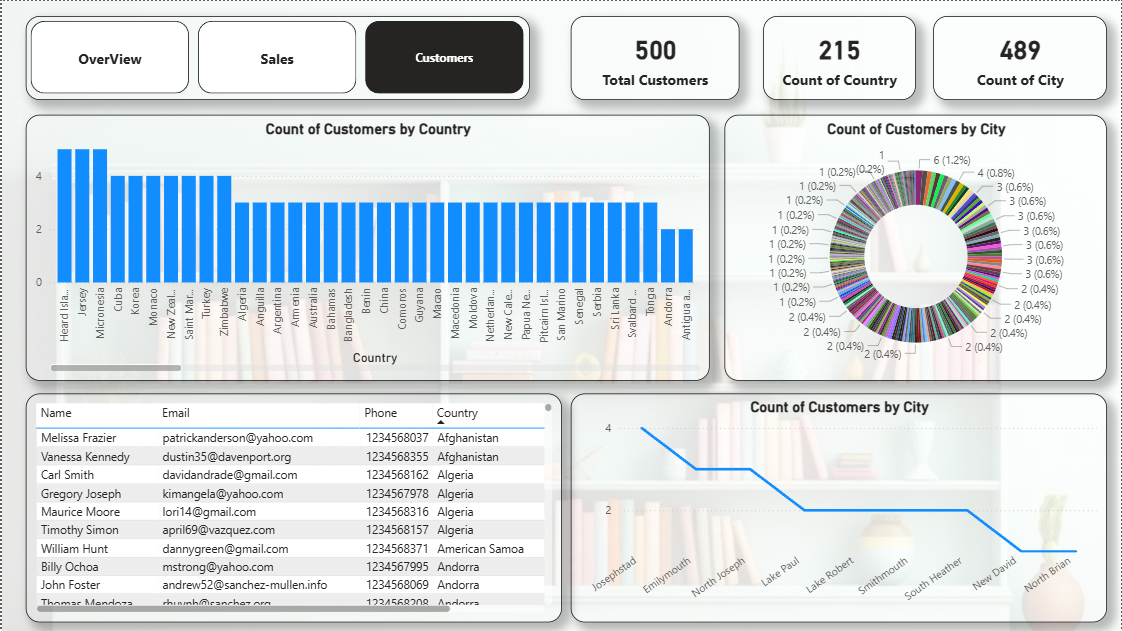

Layout of this report page (visuals, bound fields, positions):
{"tool":"powerbi","page":{"name":"Customers","canvas":[1280,720],"ordinal":2},"visuals":[{"type":"card","fields":{"Values":["Customers.Total Customers"]},"box":[650,17.1,192.9,95.7],"z":0},{"type":"card","fields":{"Values":["Count(Customers.City)"]},"box":[1064.3,17.1,198.6,95.7],"z":1},{"type":"card","fields":{"Values":["Count(Customers.Country)"]},"box":[870,17.1,174.3,95.7],"z":2},{"type":"columnChart","fields":{"Y":["Count(Orders.Customer_ID)"],"Category":["Customers.Country"]},"box":[27.1,130,781.4,304.3],"z":3},{"type":"lineChart","fields":{"Y":["CountNonNull(Orders.Customer_ID)"],"Category":["Customers.City"]},"box":[650,448.6,612.9,261.4],"z":4},{"type":"donutChart","fields":{"Category":["Customers.City"],"Y":["CountNonNull(Orders.Customer_ID)"]},"box":[825.7,130,437.1,304.3],"z":5},{"type":"tableEx","fields":{"Values":["Customers.Name","Customers.Email","Customers.Phone","Customers.Country","Customers.City"]},"box":[27.1,448.6,612.9,261.4],"z":6},{"type":"pageNavigator","box":[27.1,17.1,575.7,95.7],"z":8}]}

Visuals, with their boxes in screenshot pixels (x1, y1, x2, y2), scaled from the page's 1280x720 canvas onto the 1122x631 screenshot:
card - Customers.Total Customers: <box>570,15,739,99</box>
card - Count(Customers.City): <box>933,15,1107,99</box>
card - Count(Customers.Country): <box>763,15,915,99</box>
columnChart - Count(Orders.Customer_ID) x Customers.Country: <box>24,114,709,381</box>
lineChart - CountNonNull(Orders.Customer_ID) x Customers.City: <box>570,393,1107,622</box>
donutChart - Customers.City x CountNonNull(Orders.Customer_ID): <box>724,114,1107,381</box>
tableEx - Customers.Name x Customers.Email: <box>24,393,561,622</box>
pageNavigator: <box>24,15,528,99</box>
